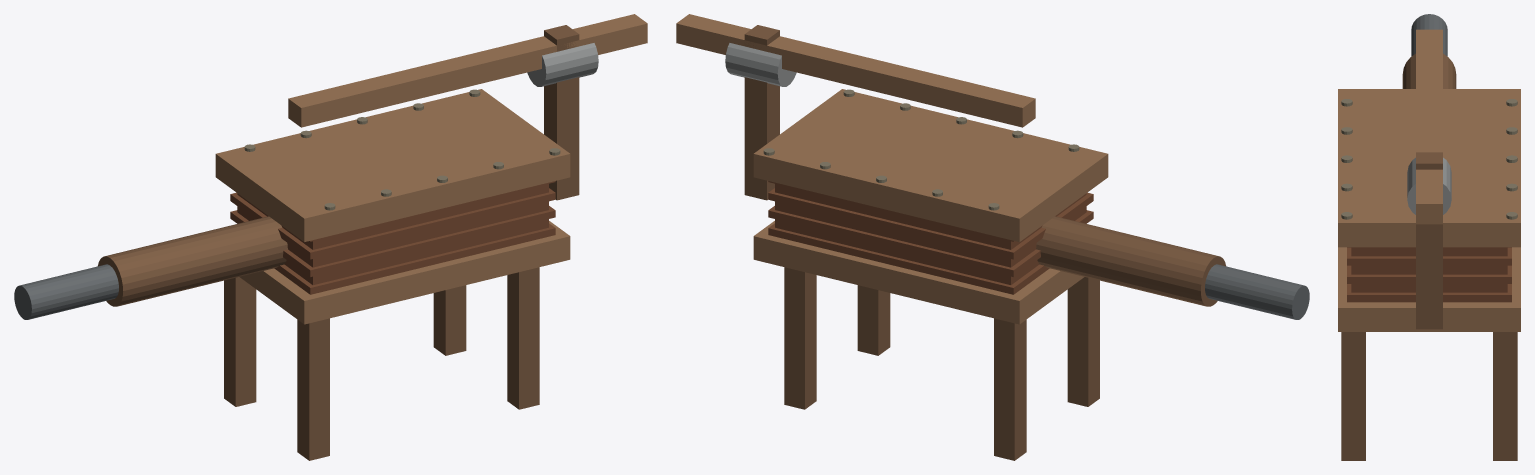
The model's file is bellows085-b1edbd70389a.glb.
3 renders of one model, left to right at view 1: azimuth 30°, elevation 25°; view 2: azimuth 150°, elevation 25°; view 3: azimuth 270°, elevation 25°, orthographic. The views are drawn at different scales.
Visible parts, largest first — view 1: upper_board, handle, lower_board, nozzle_wood, leather_body, frame_leg2_-0.62, frame_leg2_0.5, frame_leg_-0.62, lever_post, nozzle_iron, leather_fold_2, leather_fold_1 (+3 smaller); view 2: upper_board, handle, lower_board, nozzle_wood, leather_body, frame_leg_-0.62, frame_leg_0.5, frame_leg2_-0.62, nozzle_iron, lever_post, leather_fold_2, leather_fold_1 (+3 smaller); view 3: upper_board, lower_board, handle, leather_body, lever_post, frame_leg_0.5, frame_leg2_0.5, leather_fold_0, leather_fold_1, leather_fold_2, hinge, nozzle_wood (+1 smaller).
Part boxes in pixels (x1,y1,x2,y2): upper_board: [215, 89, 570, 241]; handle: [288, 14, 647, 127]; lower_board: [239, 221, 570, 324]; nozzle_wood: [98, 216, 287, 306]; leather_body: [237, 184, 548, 284]; frame_leg2_-0.62: [297, 318, 329, 460]; frame_leg2_0.5: [507, 267, 539, 409]; frame_leg_-0.62: [224, 277, 256, 406]; lever_post: [544, 25, 579, 200]; nozzle_iron: [14, 264, 118, 319]; leather_fold_2: [230, 188, 555, 259]; leather_fold_1: [230, 206, 555, 276]; upper_board: [753, 89, 1108, 241]; handle: [676, 14, 1035, 127]; lower_board: [753, 221, 1084, 324]; nozzle_wood: [1036, 216, 1225, 306]; leather_body: [775, 184, 1086, 284]; frame_leg_-0.62: [994, 318, 1026, 460]; frame_leg_0.5: [784, 267, 816, 409]; frame_leg2_-0.62: [1067, 277, 1099, 406]; nozzle_iron: [1205, 264, 1309, 319]; lever_post: [744, 25, 779, 200]; leather_fold_2: [768, 188, 1093, 259]; leather_fold_1: [768, 206, 1093, 276]; upper_board: [1338, 89, 1520, 247]; lower_board: [1338, 247, 1520, 331]; handle: [1416, 29, 1442, 224]; leather_body: [1351, 247, 1507, 292]; lever_post: [1416, 152, 1442, 329]; frame_leg_0.5: [1493, 332, 1517, 460]; frame_leg2_0.5: [1341, 332, 1365, 460]; leather_fold_0: [1347, 284, 1511, 302]; leather_fold_1: [1347, 265, 1511, 283]; leather_fold_2: [1347, 247, 1511, 265]; hinge: [1407, 157, 1451, 214]; nozzle_wood: [1402, 53, 1456, 88].
Bounding box in the file's own units: 3.3 × 1.66 × 0.82.
